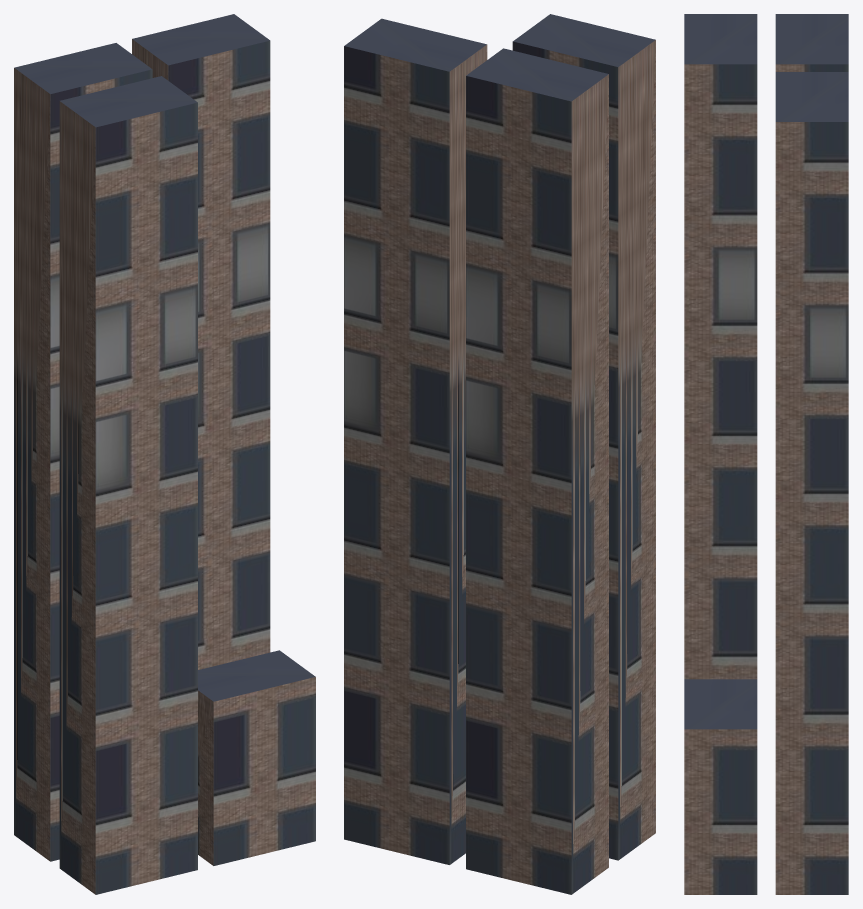
Rendered from block_23.obj.
3 views of the same model, side by side, from view 1: azimuth 30°, elevation 25°; view 2: azimuth 150°, elevation 25°; view 3: azimuth 270°, elevation 25° (orthographic). The views are drawn at different scales.
Parts seen in each view (by area): view 1: b1, b2, b0, b3; view 2: b0, b2, b1; view 3: b2, b1, b3, b0.
Part boxes in pixels (<box>): b1: <box>59,76,197,894</box>; b2: <box>132,14,270,669</box>; b0: <box>14,43,152,861</box>; b3: <box>198,650,315,865</box>; b0: <box>466,48,608,894</box>; b2: <box>344,18,487,864</box>; b1: <box>512,14,655,860</box>; b2: <box>775,72,848,894</box>; b1: <box>684,14,757,679</box>; b3: <box>684,679,757,894</box>; b0: <box>775,14,848,71</box>.
Size of the model in its own units: 4.2 by 14 by 2.7.
